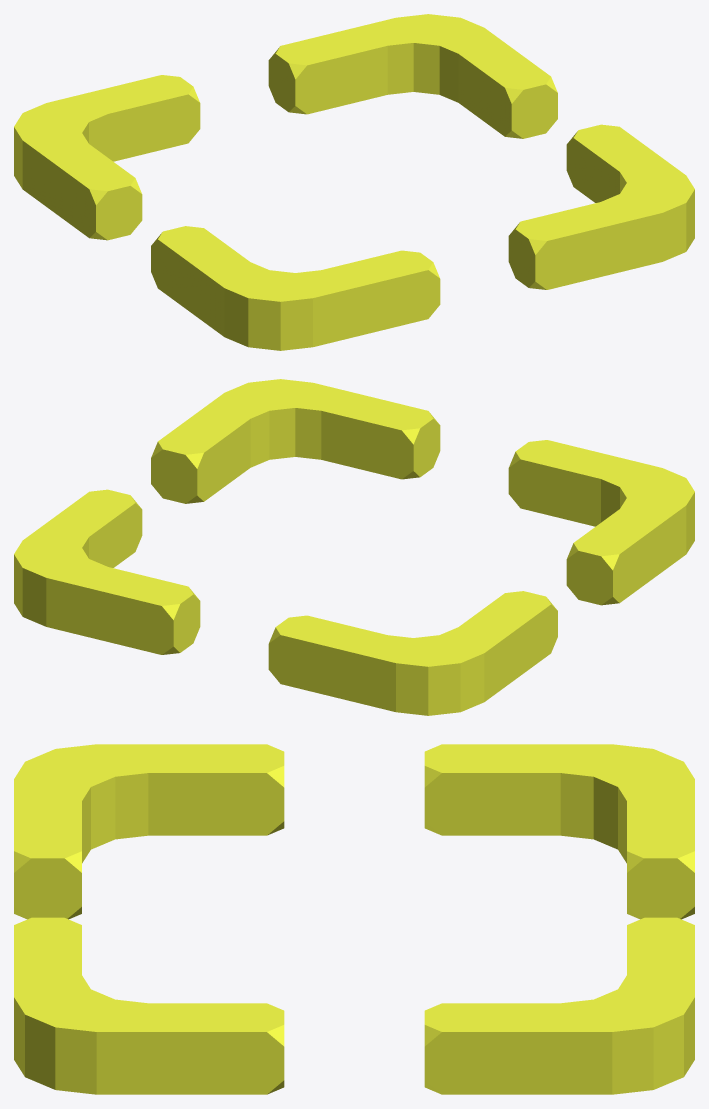
File: tile_hover.gltf
3 views of the same model, one above another, from view 1: azimuth 30°, elevation 25°; view 2: azimuth 150°, elevation 25°; view 3: azimuth 270°, elevation 25° (orthographic). The views are drawn at different scales.
Parts seen in each view (by area): view 1: Plane.047; view 2: Plane.047; view 3: Plane.047.
Boxes of the visible parts, x1=… form: Plane.047: x1=14, y1=14, x2=694, y2=350; Plane.047: x1=14, y1=379, x2=694, y2=715; Plane.047: x1=14, y1=744, x2=694, y2=1094.
Bounding box in the file's own units: 2 × 0.2031 × 2.
